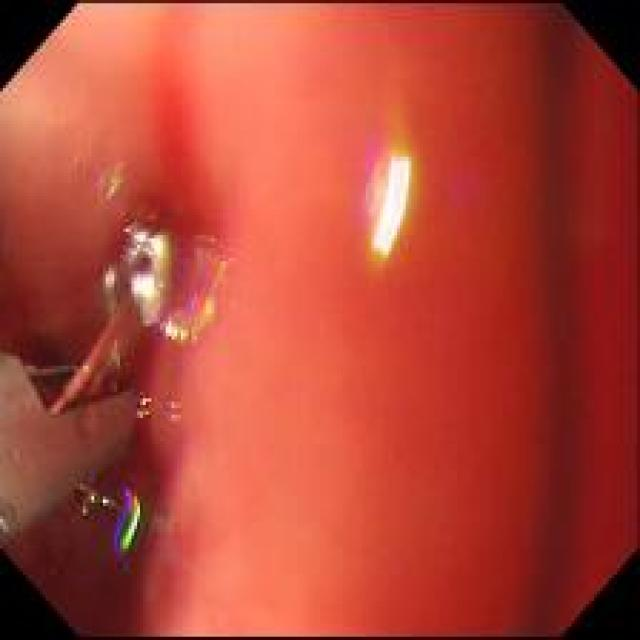color misalignment: (157, 250, 231, 343), (358, 134, 388, 229), (116, 484, 142, 551), (169, 401, 178, 423), (132, 399, 153, 407), (134, 411, 150, 418)
instrument: (4, 222, 180, 548)
specularity: (373, 158, 408, 255), (134, 279, 156, 295), (154, 240, 164, 255), (137, 236, 146, 240)
